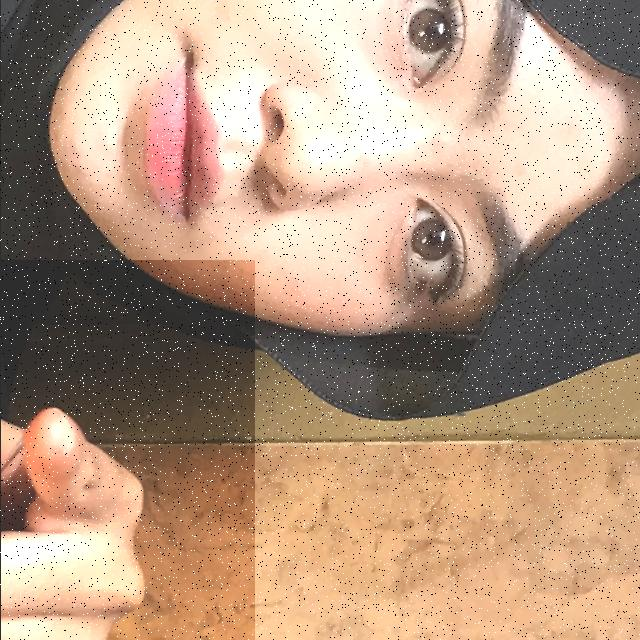kamu: (0, 260, 254, 640)
